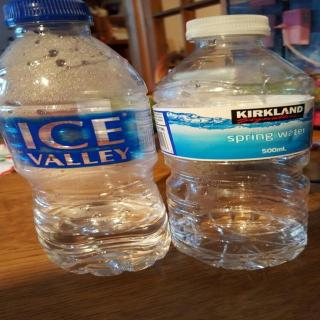Plastic-bottle: (1, 1, 176, 281), (148, 13, 320, 275)
